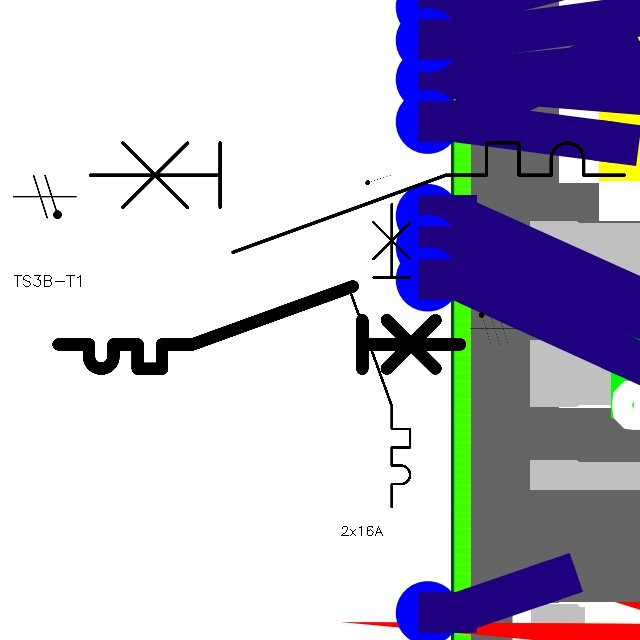interruptor_termomagnetico: (76, 129, 637, 266), (48, 276, 470, 379), (340, 196, 418, 515)
